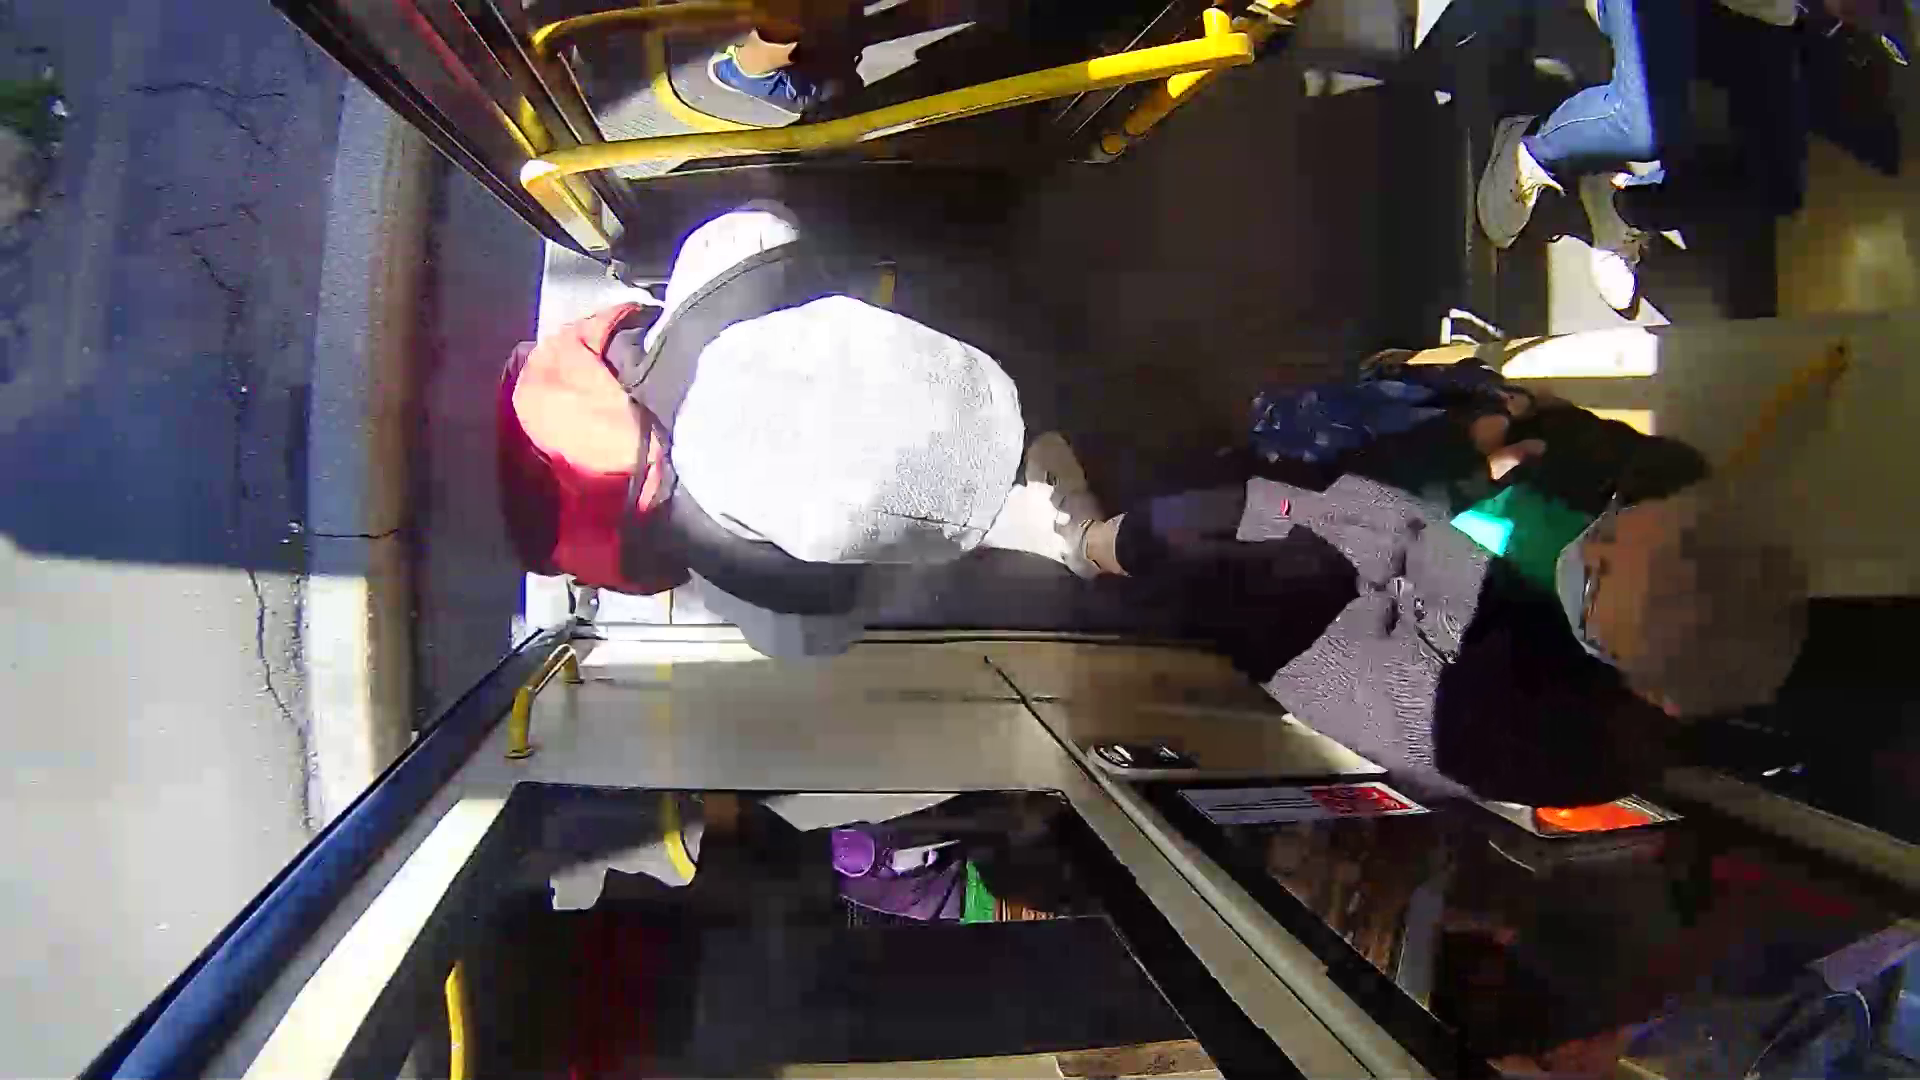person: (1195, 303, 1825, 822), (513, 228, 1111, 640)
